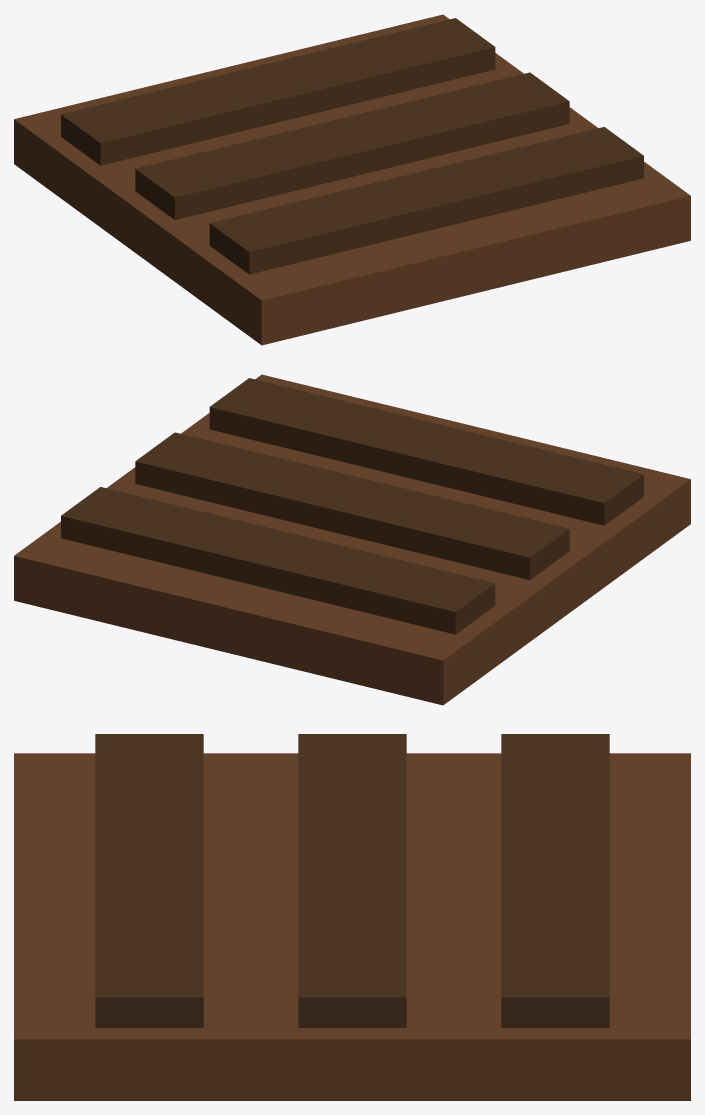
Rendered from soil_tilled.glb.
The picture shows the model from 3 angles, top to bottom: view 1: azimuth 30°, elevation 25°; view 2: azimuth 150°, elevation 25°; view 3: azimuth 270°, elevation 25°; orthographic projection. The views are drawn at different scales.
Visible parts, largest first — view 1: body; view 2: body; view 3: body.
Boxes of the visible parts, x1,y1,x2,y2 form: body: [14, 14, 690, 345]; body: [14, 374, 690, 705]; body: [14, 734, 690, 1100].
Bounding box in the file's own units: 1 × 0.15 × 1.
